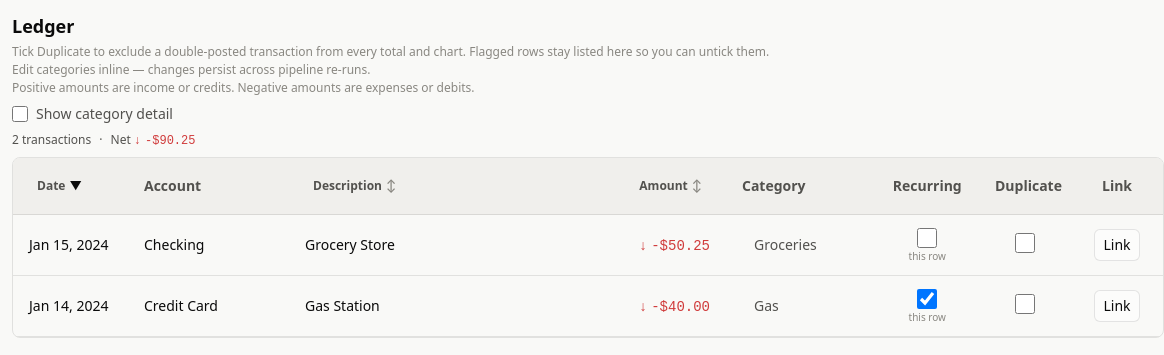
Test case: TransactionsTab › Plaid detail column (pfc_detailed) toggle › renders the "Plaid detail" column with pfc_detailed values when checkbox is clicked
The image size is (1164, 355).
Check: the text "Plaid detail" is not shown
Click the "Show category detail" checkbox
Click the checkbox labelled "Show category detail" at point(20, 114), box [12,106,28,122]
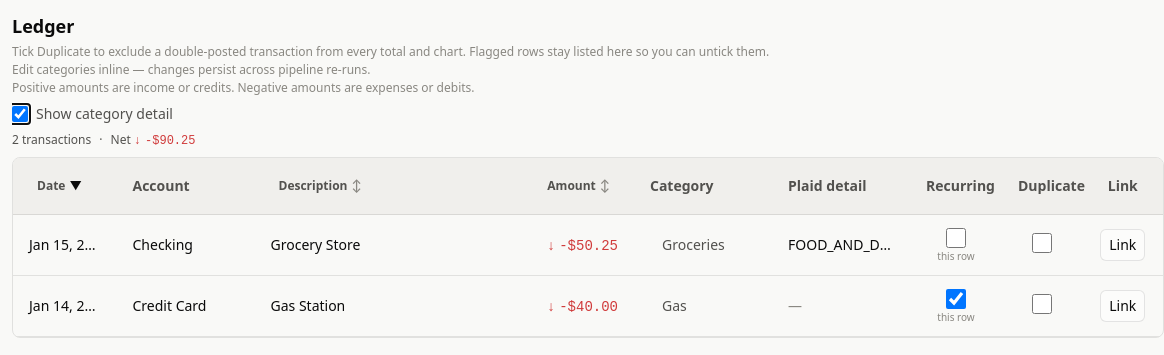
Check: the column heading "Plaid detail" is shown, box [772,158,910,214]
Check: the text "FOOD_AND_DRINK_GROCERIES" is shown, box [788,235,894,255]
Check: the text "—" is shown, box [788,296,802,315]
